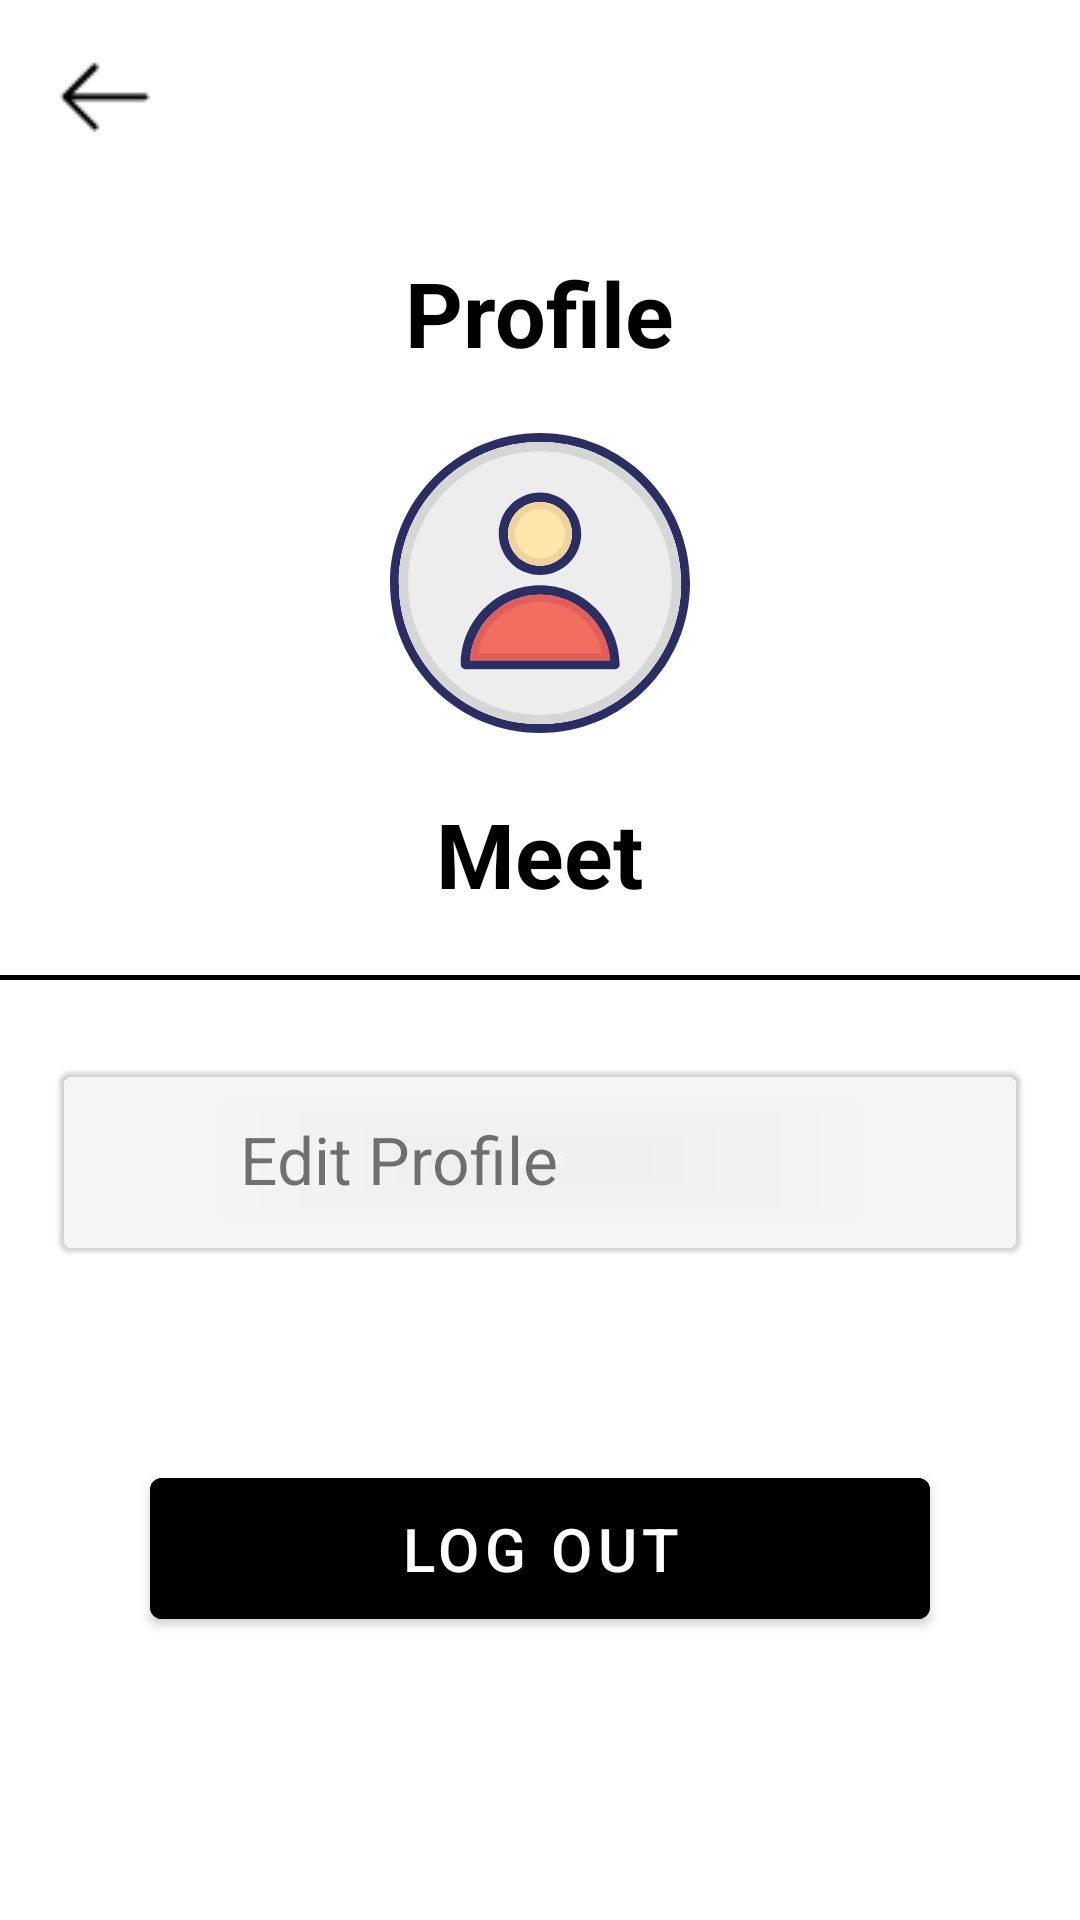

Point at icon controls on the screen. Image size 1080x1920, points as point (x, y).
arrow: point (105, 97)
